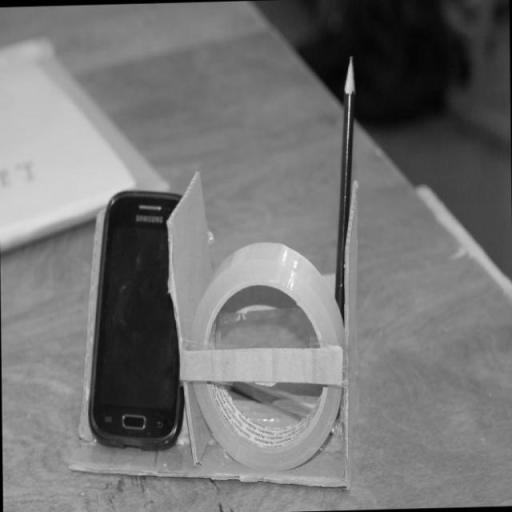phone: (88, 191, 183, 449)
